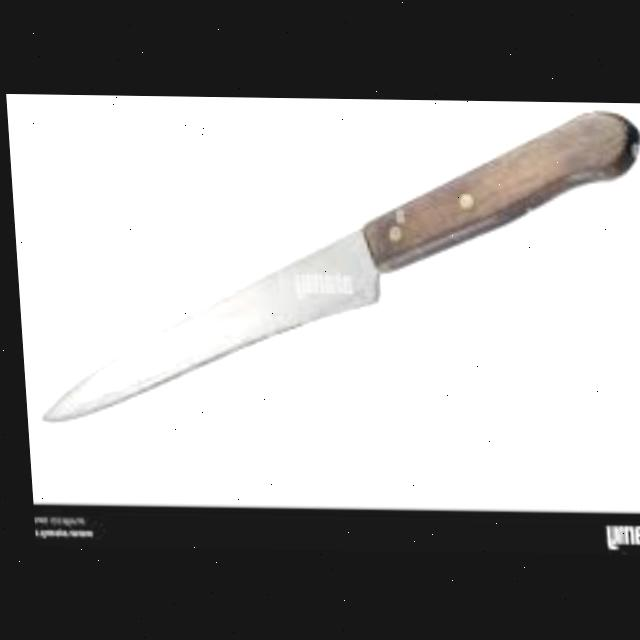Knife: (21, 100, 640, 429)
